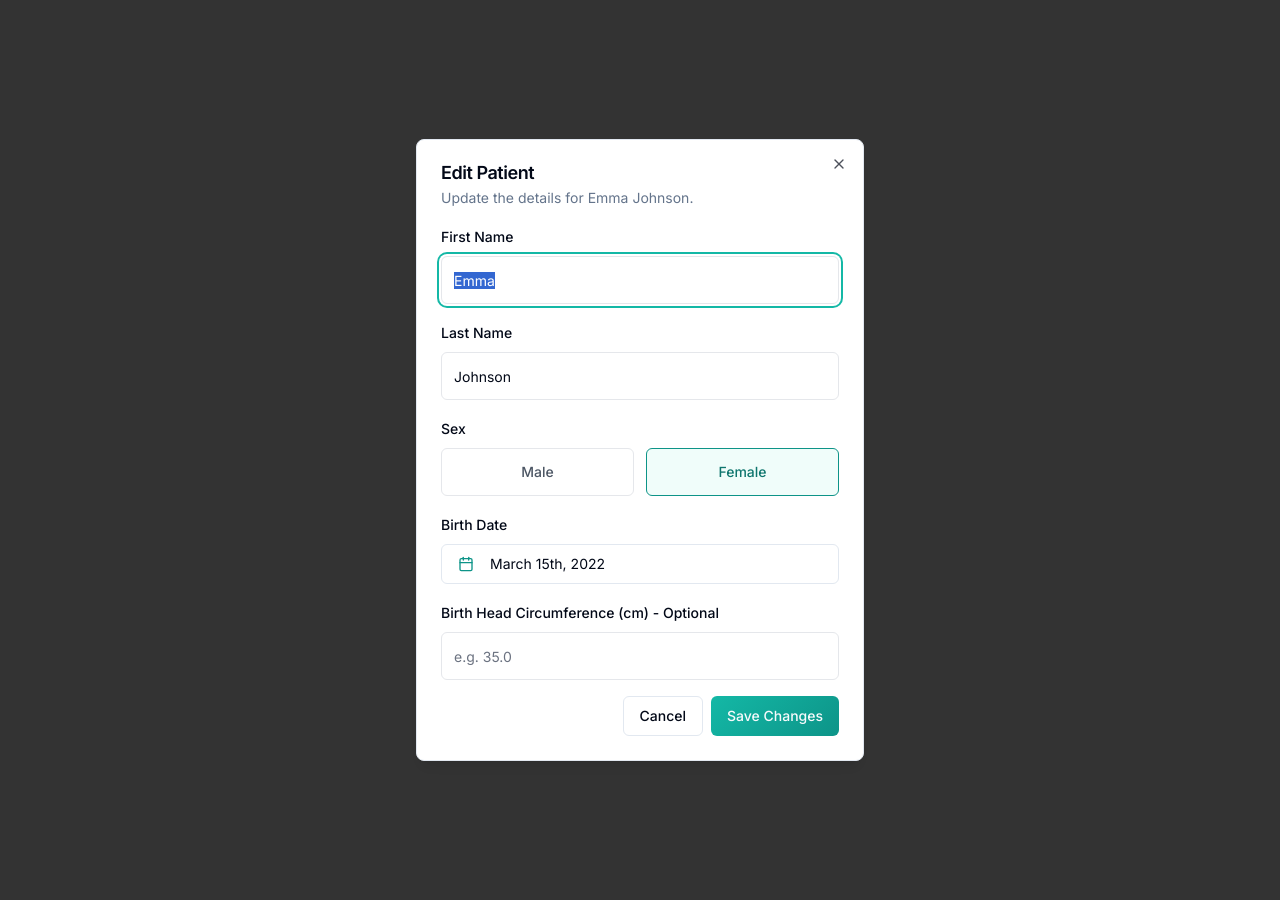
Test: EditPatientDialog › clears circumference error when value is deleted
Type "99" into the field labelled "Birth Head Circumference (cm) - Optional" at {"x": 640, "y": 656}, box [441, 632, 839, 680]
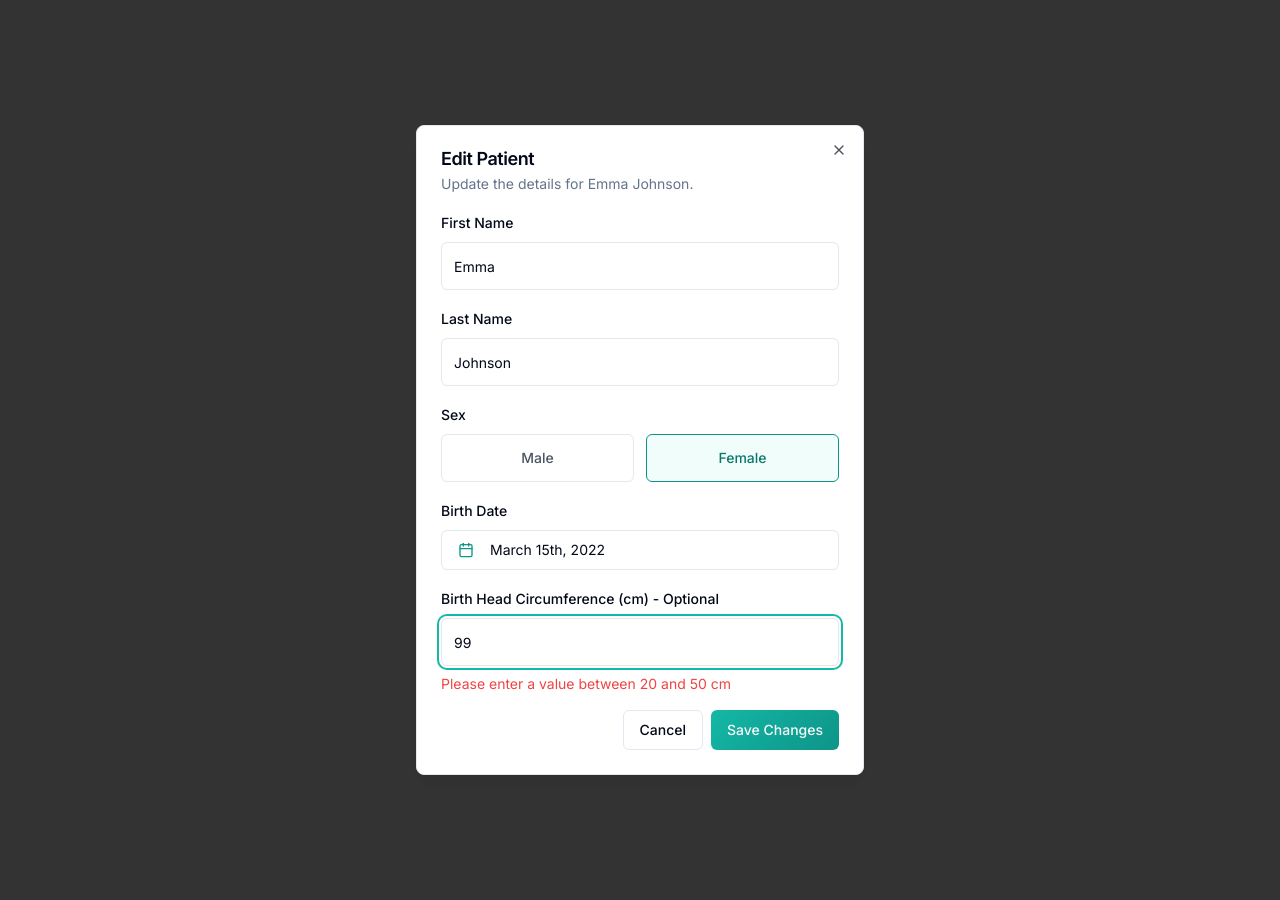
Clear the field labelled "Birth Head Circumference (cm) - Optional" at {"x": 640, "y": 642}, box [441, 618, 839, 666]
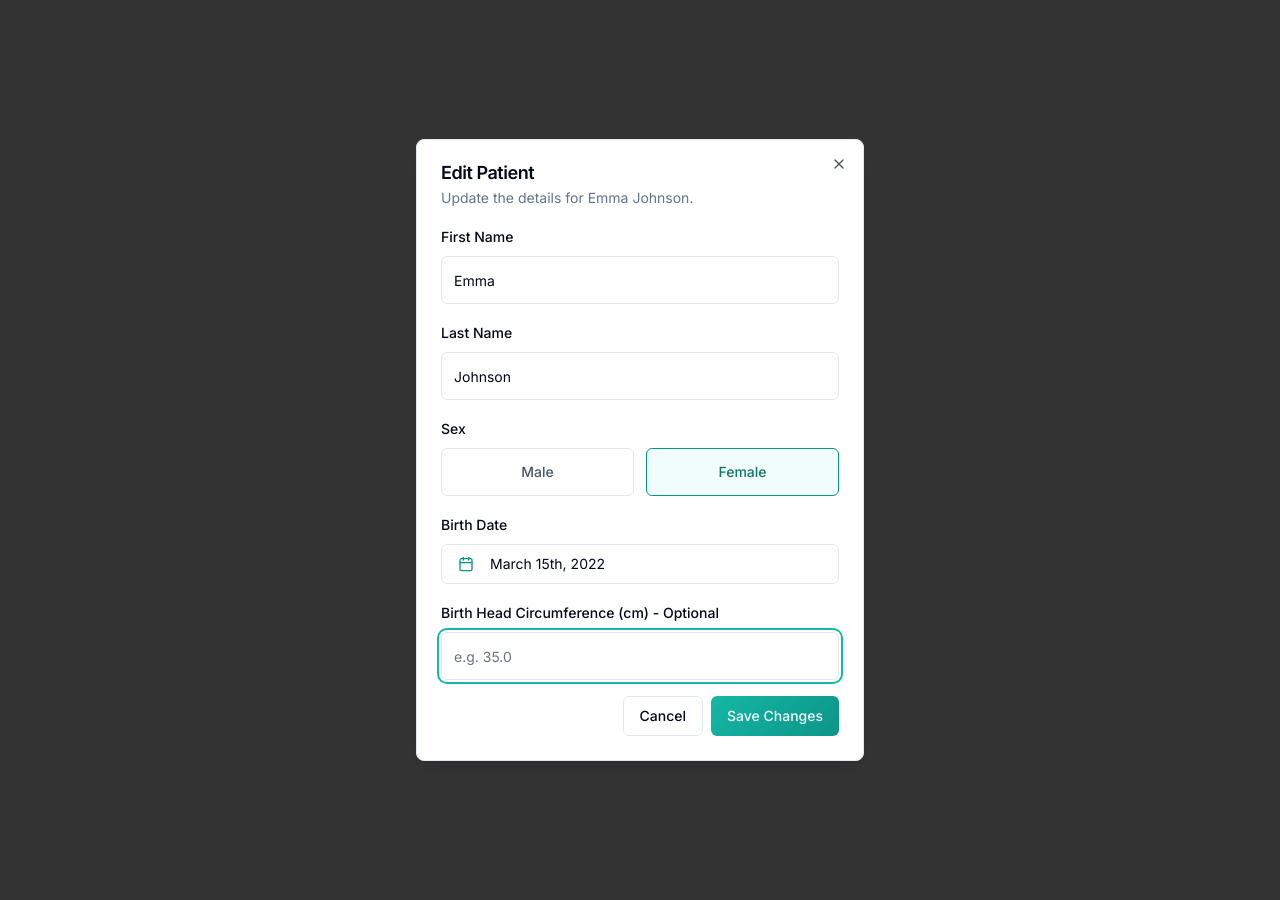
Result: the text "Please enter a value between" is gone
